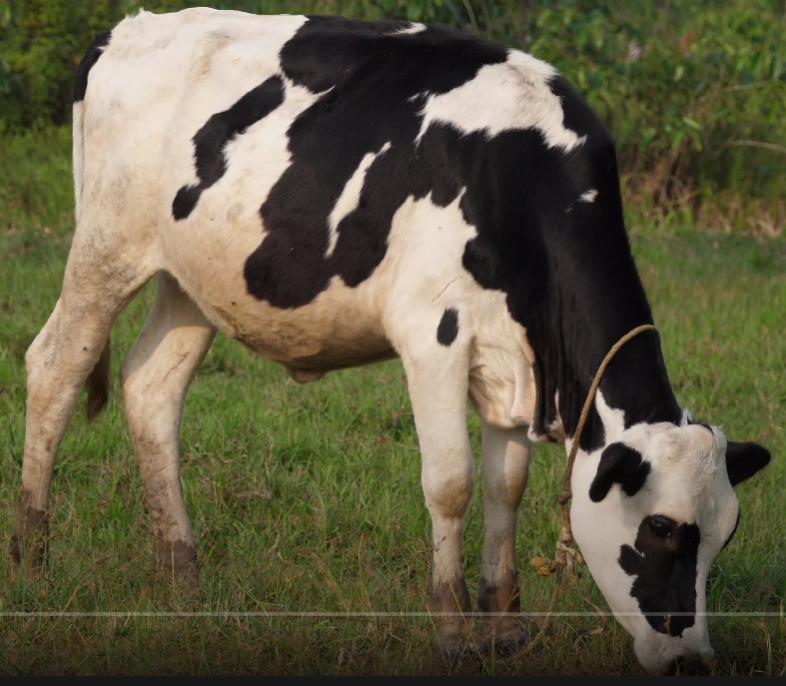cow: (7, 6, 773, 672)
